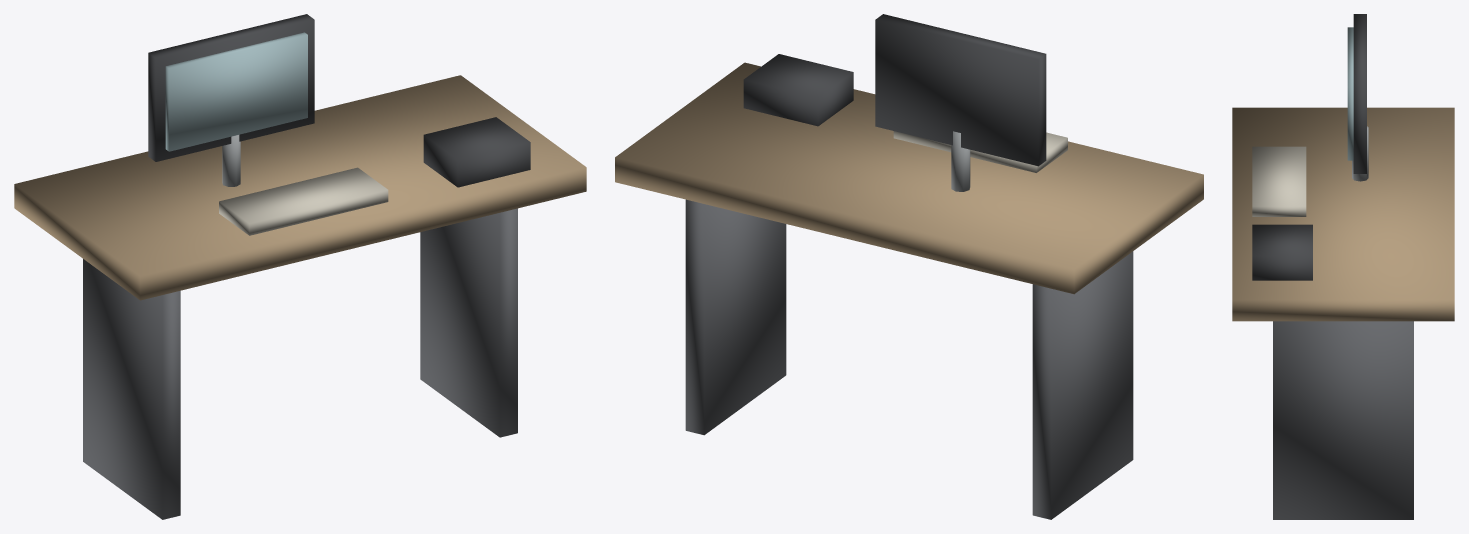
File: modern_workstation.glb
The picture shows the model from 3 angles, left to right: view 1: azimuth 30°, elevation 25°; view 2: azimuth 150°, elevation 25°; view 3: azimuth 270°, elevation 25°; orthographic projection. The views are drawn at different scales.
Visible parts, largest first — view 1: world; view 2: world; view 3: world.
Part boxes in pixels (left/top/right/bottom): world: left=14, top=14, right=586, bottom=519; world: left=615, top=14, right=1203, bottom=519; world: left=1232, top=14, right=1454, bottom=519.
Size of the model in its own units: 1.35 by 1.21 by 0.66.
